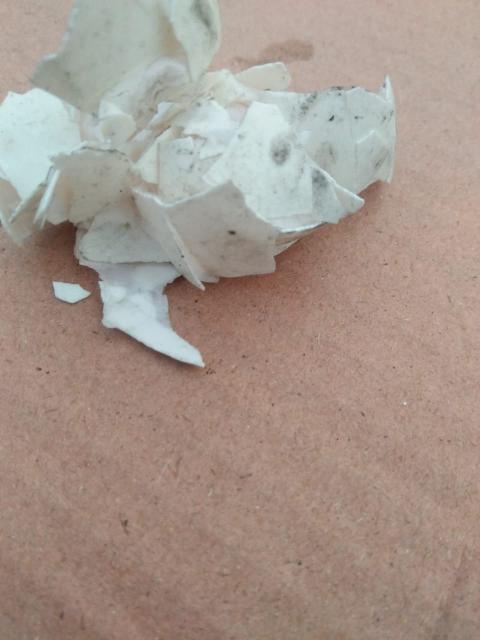Roto: (1, 1, 398, 368)
